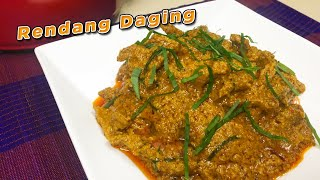rendang: (86, 22, 318, 180)
